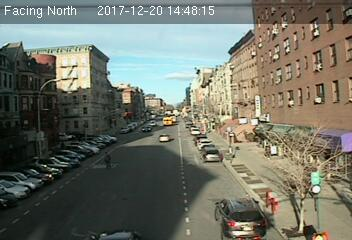car: (213, 196, 269, 239), (202, 148, 220, 163), (158, 133, 169, 142), (142, 126, 151, 131)
